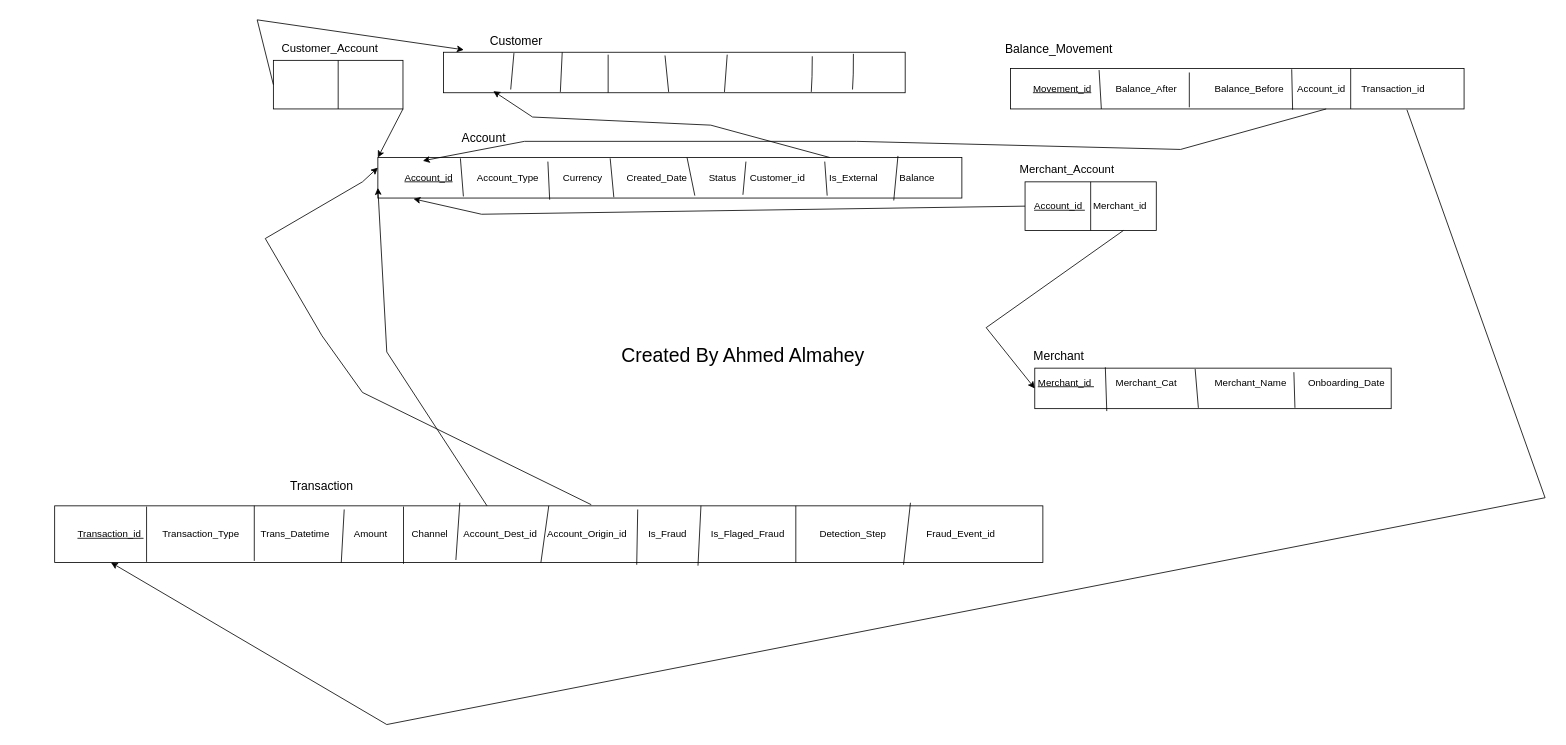
Image size: 1566x745. Some labels were removed from this diagram. The shapes that lost their labels are listed below. From the top down, each one's centre as x and y in pixels, then its label:
the point at 338,84: Customer_id Account_id
the point at 674,72: Customer_id Fname Lname Zip_Code Gender Risk_Segment Age Birthdate
